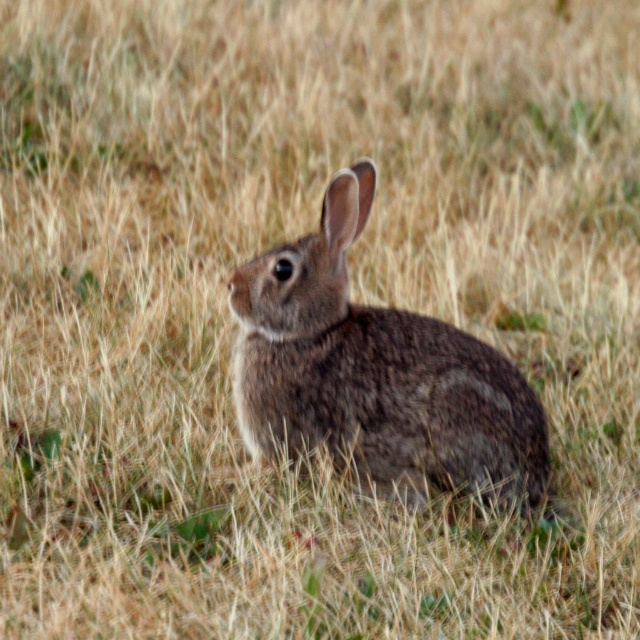Rabbit: (224, 157, 555, 524)
